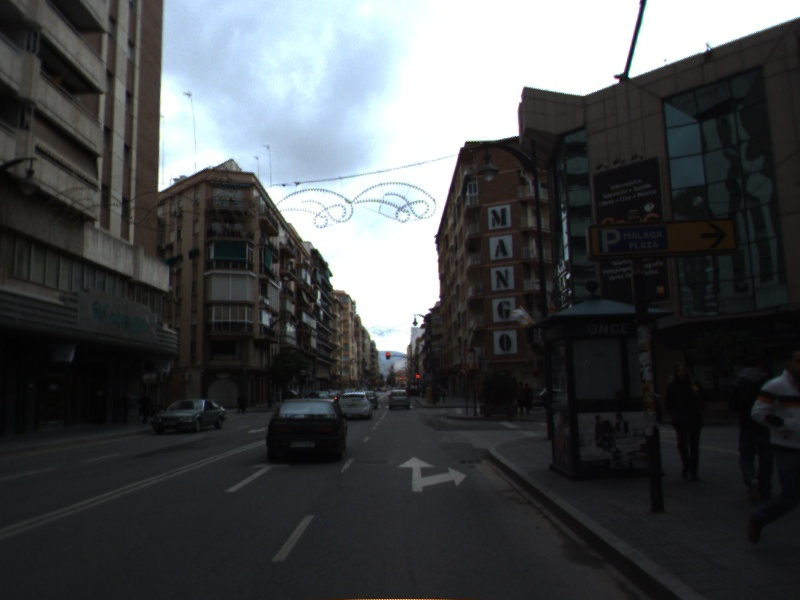STRAIGHT: (222, 459, 290, 495)
STRAIGHT_RIGHT: (396, 455, 469, 493)
